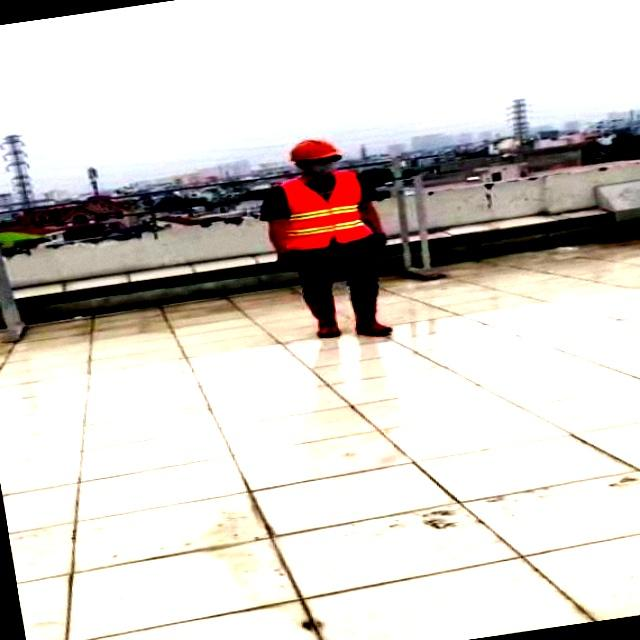helmet: (264, 132, 358, 160)
safety_vest: (273, 166, 396, 250)
